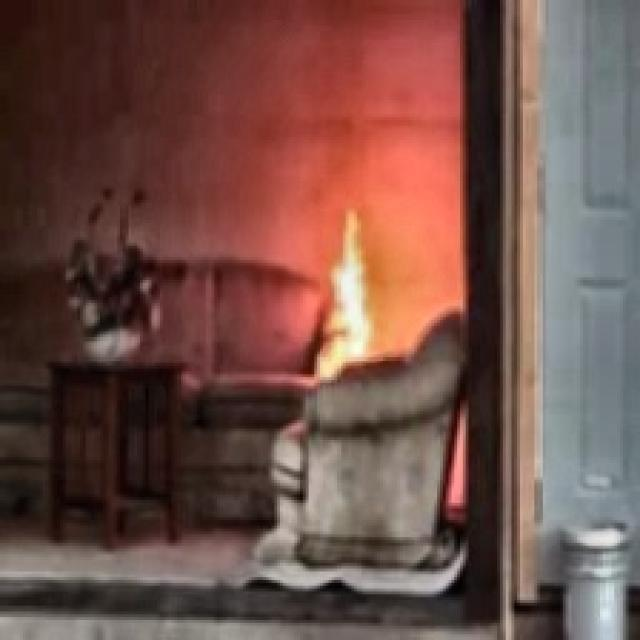fire: (310, 187, 421, 379)
